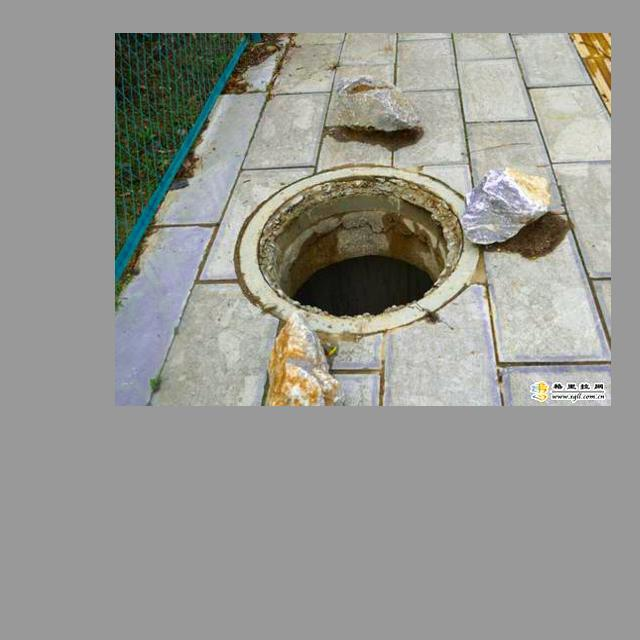lose: (235, 156, 490, 330)
